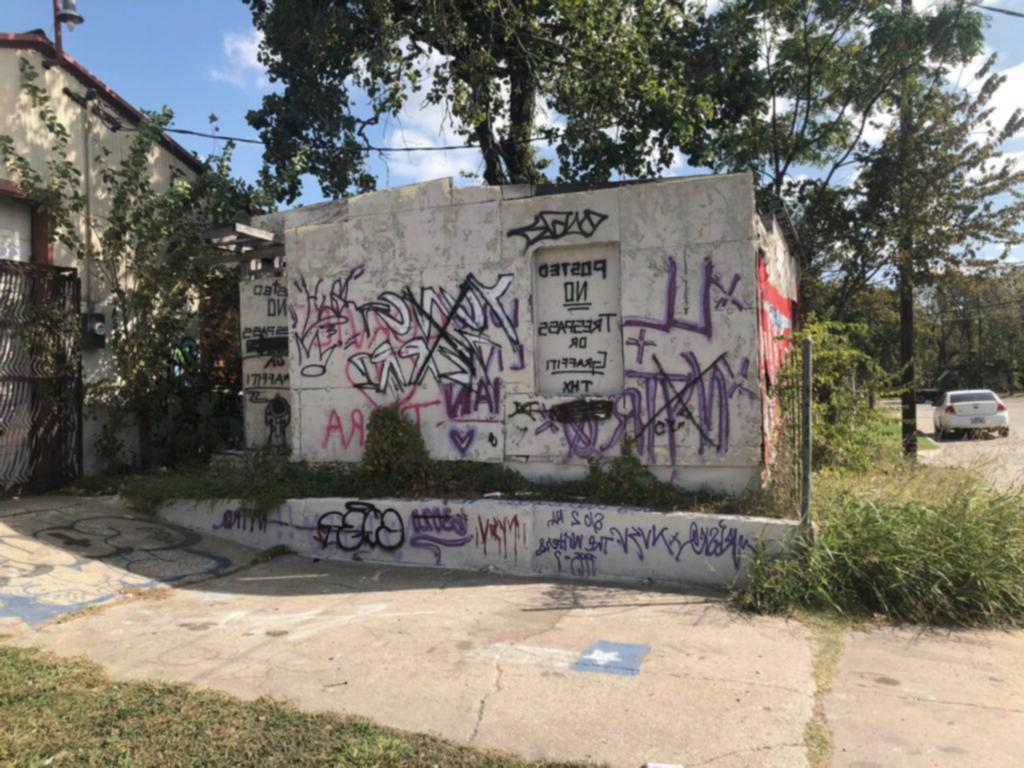graffiti: (290, 223, 756, 490), (246, 498, 795, 584), (1, 521, 229, 626), (242, 275, 291, 447), (759, 269, 792, 466), (486, 640, 651, 676), (507, 209, 609, 253)
